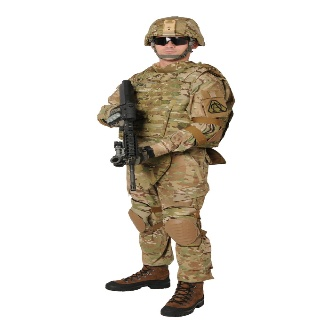rifle: (106, 79, 140, 192)
